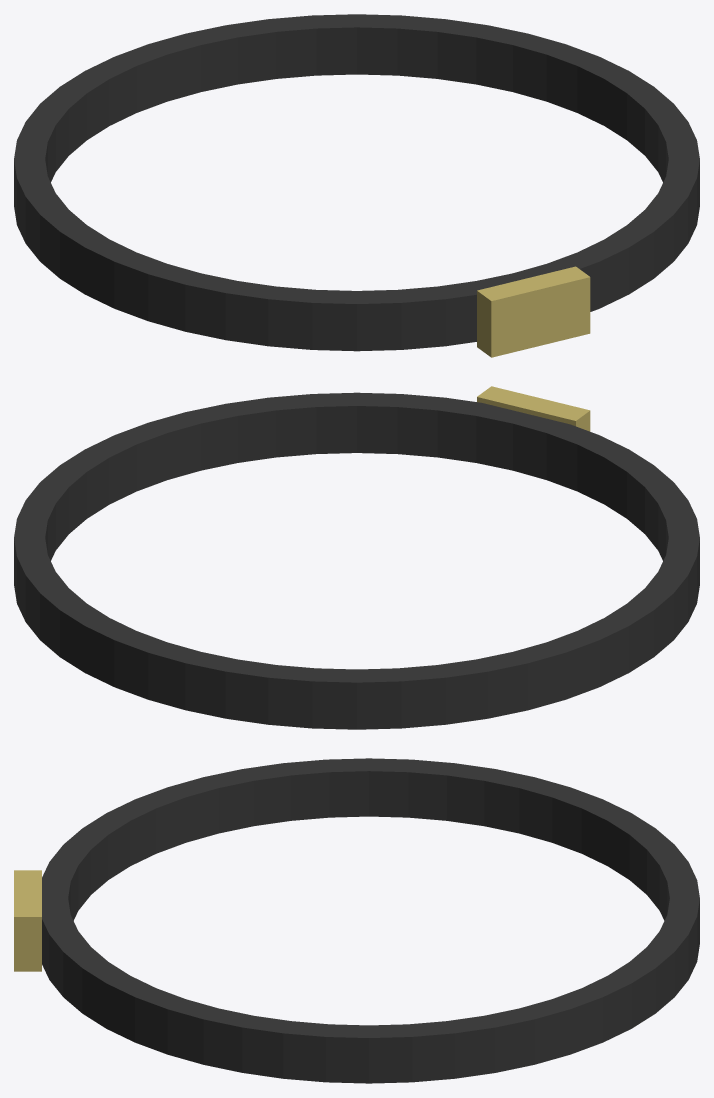
Rendered from nylon_belt.glb.
The picture shows the model from 3 angles, top to bottom: view 1: azimuth 30°, elevation 25°; view 2: azimuth 150°, elevation 25°; view 3: azimuth 270°, elevation 25°; orthographic projection. The views are drawn at different scales.
Parts seen in each view (by area): view 1: world; view 2: world; view 3: world.
Part boxes in pixels (<box>): world: <box>14,14,699,357</box>; world: <box>14,386,699,729</box>; world: <box>14,758,699,1083</box>.
Bounding box in the file's own units: 0.33 × 0.03 × 0.342.
